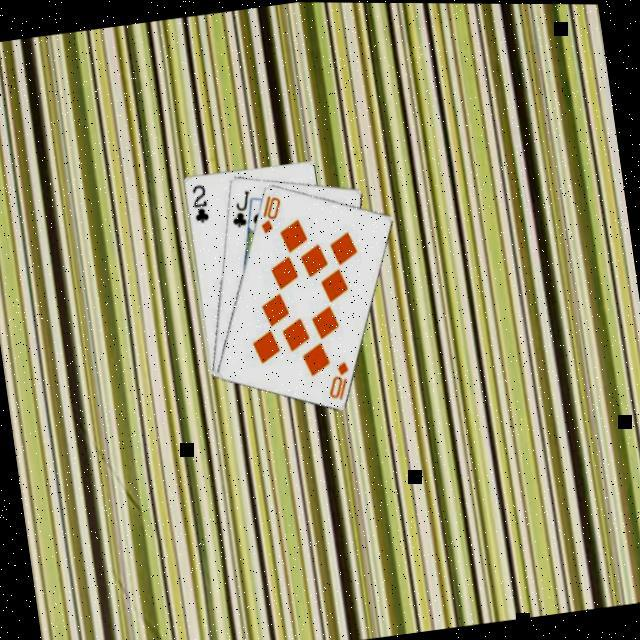10D: (324, 358, 358, 405), (256, 191, 290, 236)
2C: (190, 183, 214, 227)
JC: (227, 187, 258, 231)
